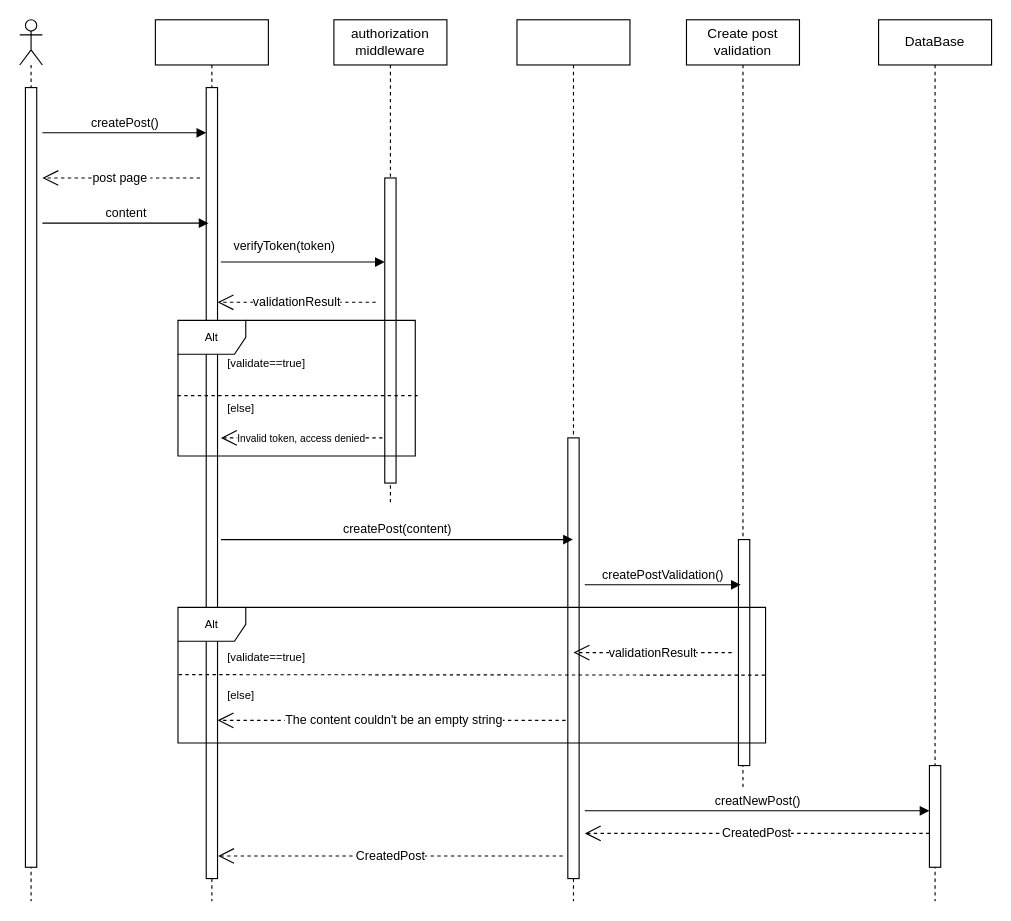
The diagram is 1011 pixels wide and 921 high, and some of its shapes have lost their labels. The box of each missing label's shape, as (x1, y1, x2, y2) in pixels:
post controller: (516, 19, 630, 901)
UI: (154, 19, 268, 901)
